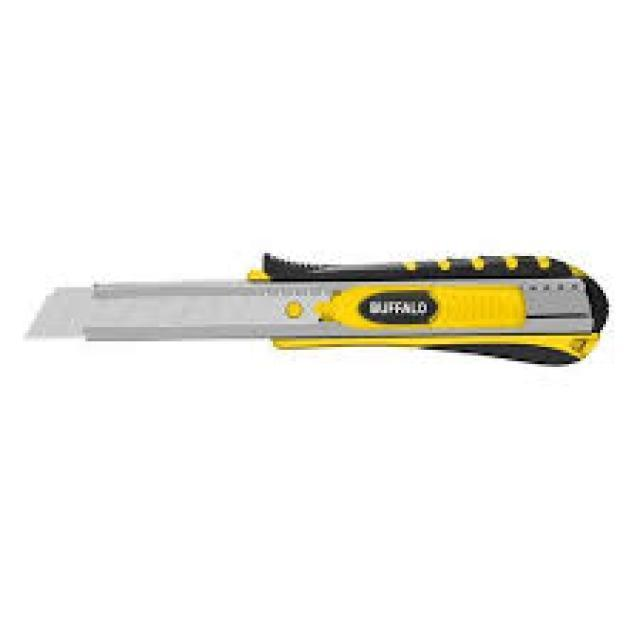cutter: (13, 234, 616, 386)
